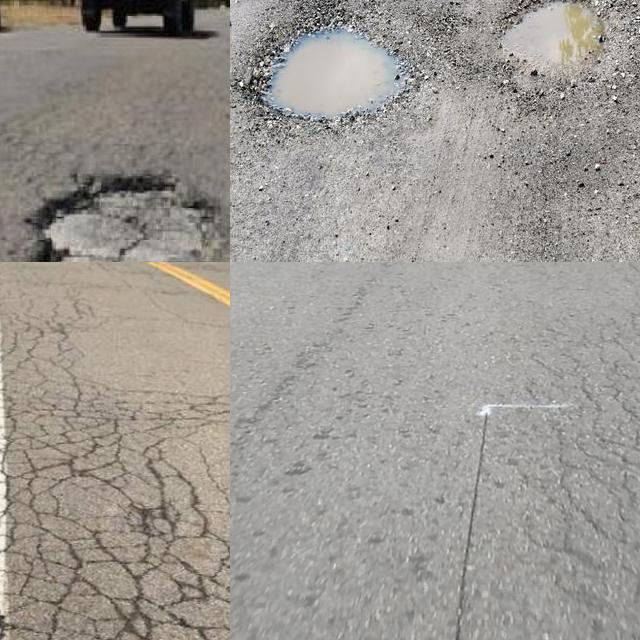Lubang: (246, 11, 413, 119), (35, 181, 227, 262), (500, 2, 613, 77)
Retak Buaya: (0, 305, 230, 640), (505, 316, 640, 640)
